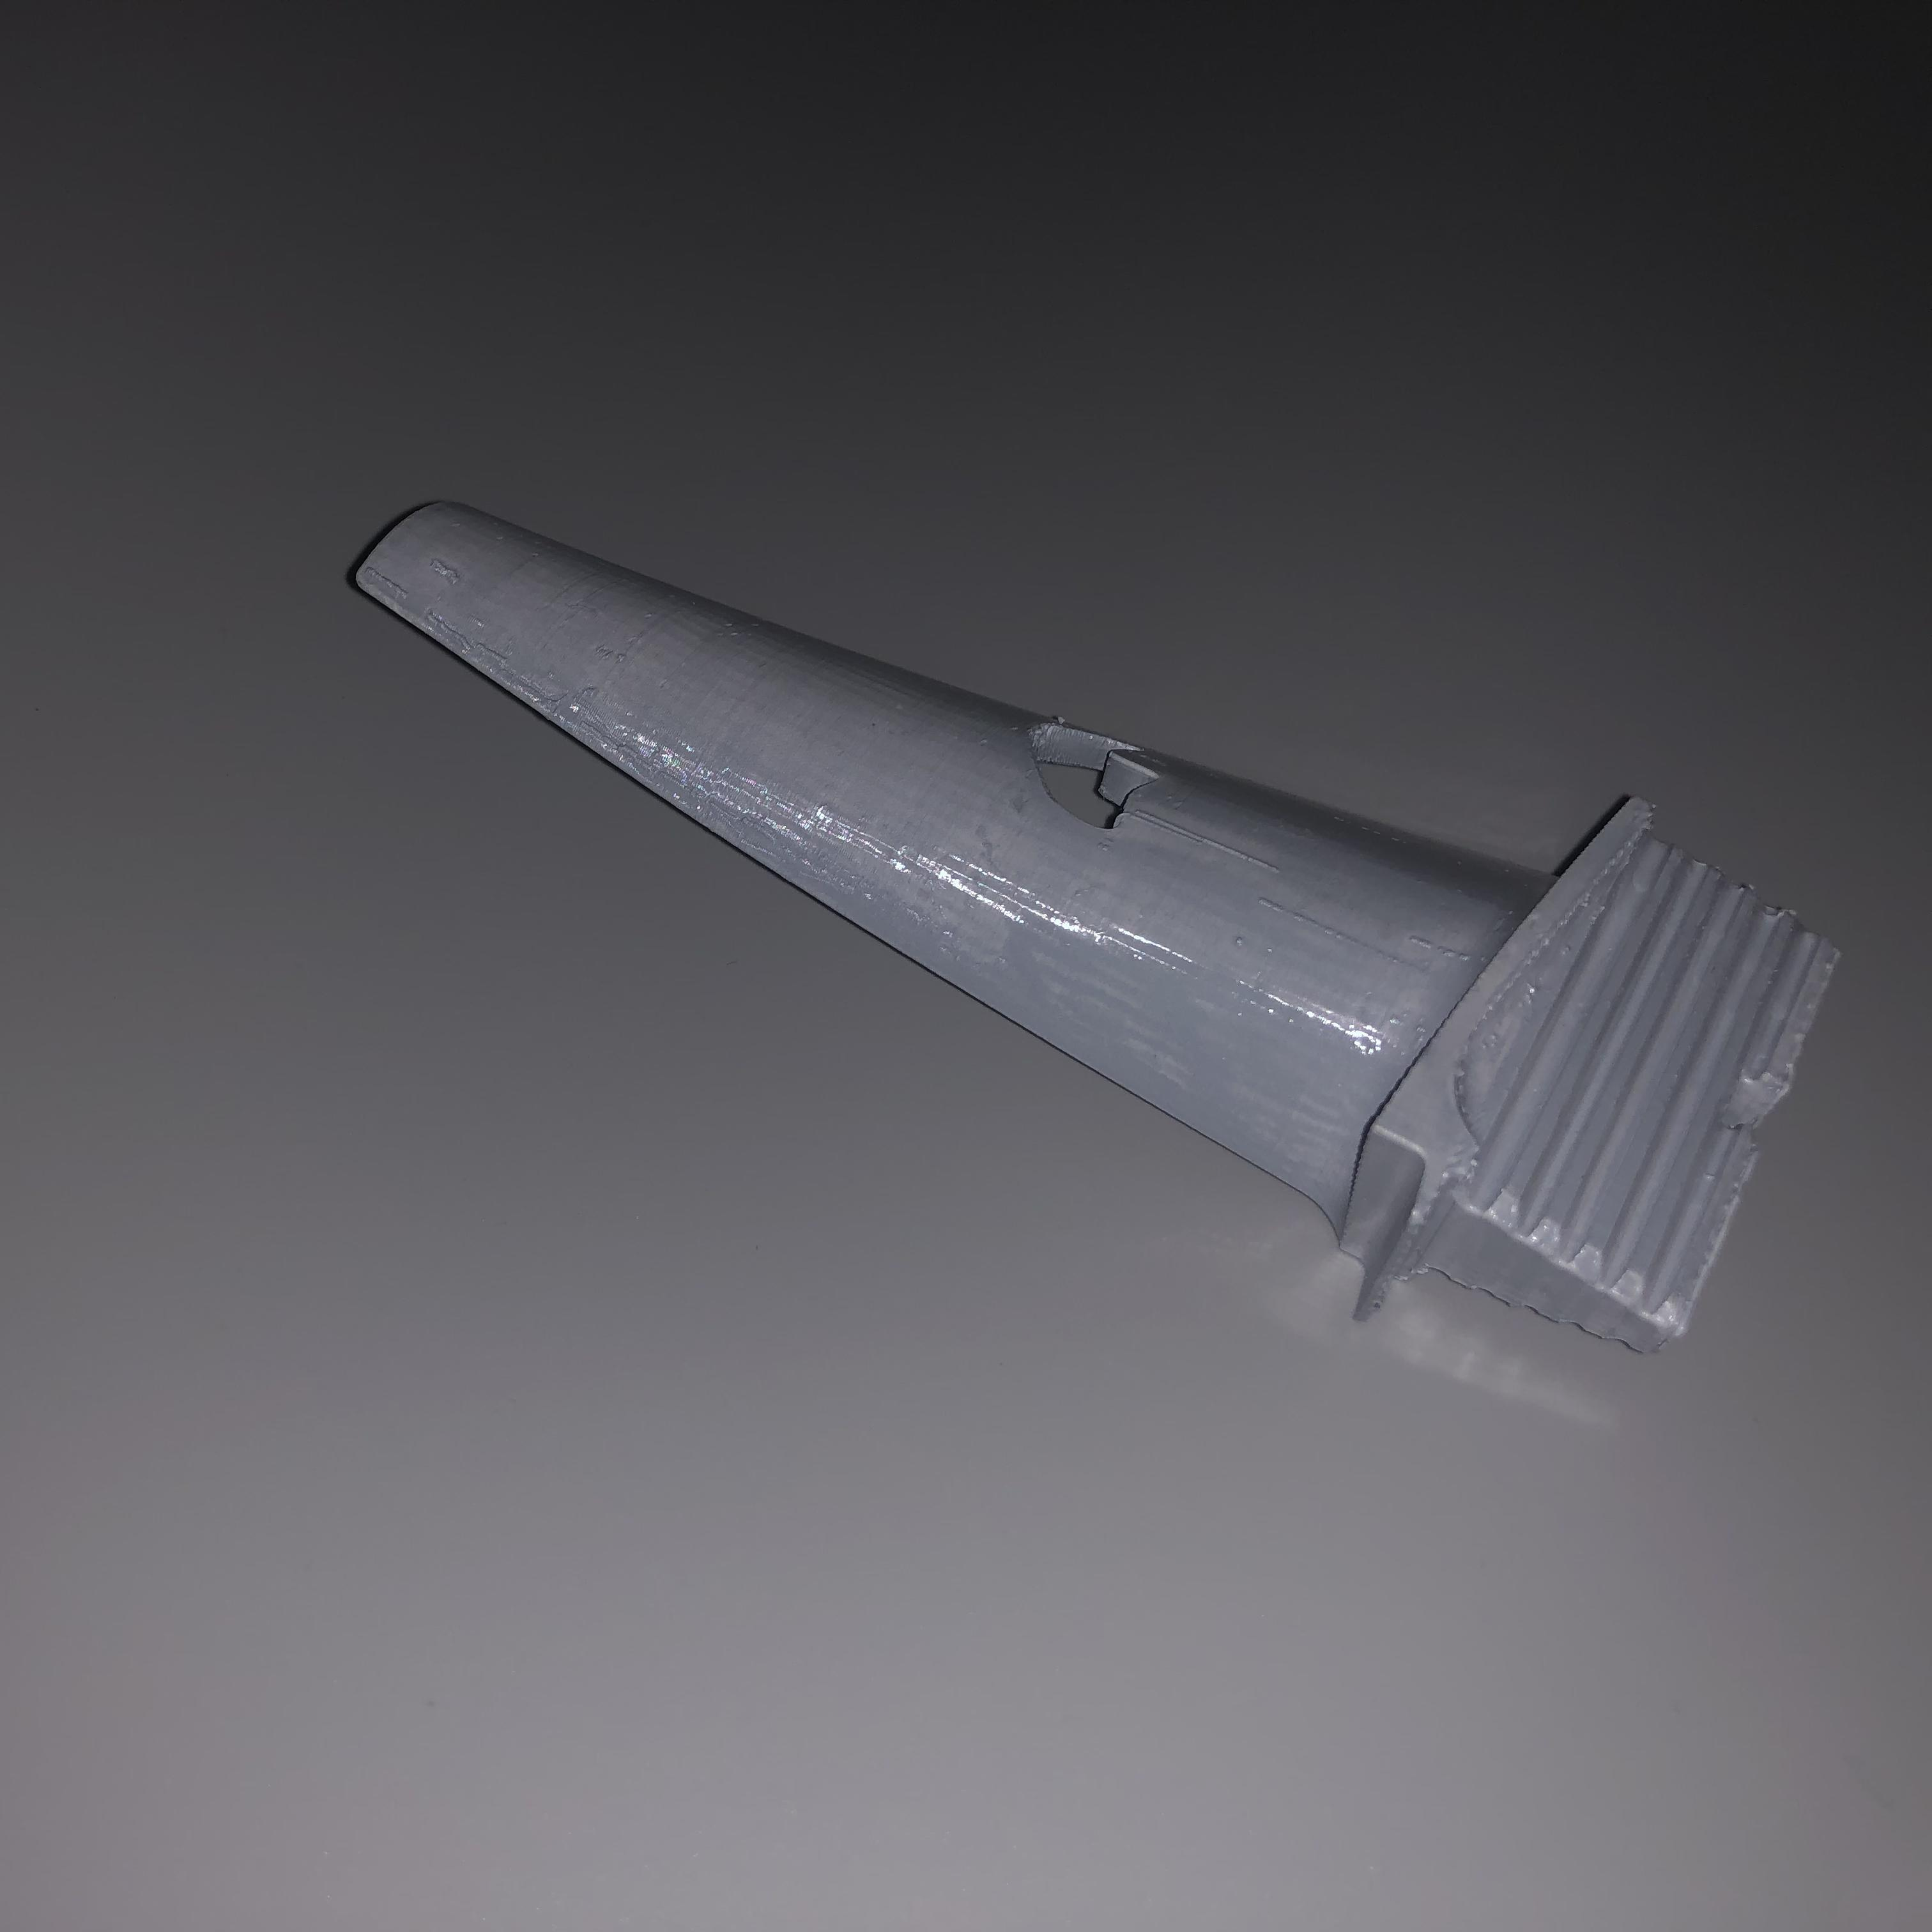breakdown: (1021, 718, 1175, 830)
